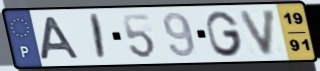5: (119, 12, 157, 60)
9: (161, 11, 198, 59)
A: (38, 16, 82, 62)
G: (204, 10, 245, 59)
I: (90, 13, 108, 62)
V: (237, 7, 279, 57)
